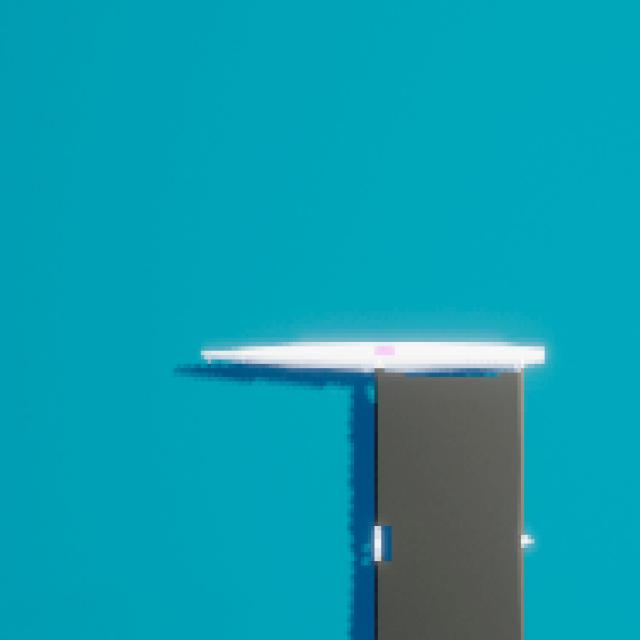boat: (180, 315, 565, 640)
drone: (374, 368, 524, 640)
